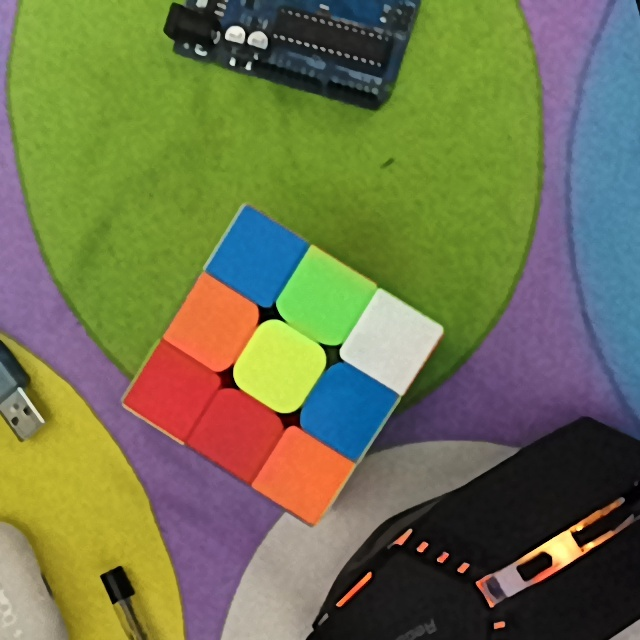tile: (323, 377, 375, 435), (360, 315, 417, 367), (209, 407, 266, 457), (278, 449, 331, 501), (146, 365, 198, 417), (190, 297, 240, 351), (299, 272, 350, 324), (230, 235, 283, 284), (254, 339, 303, 392)
